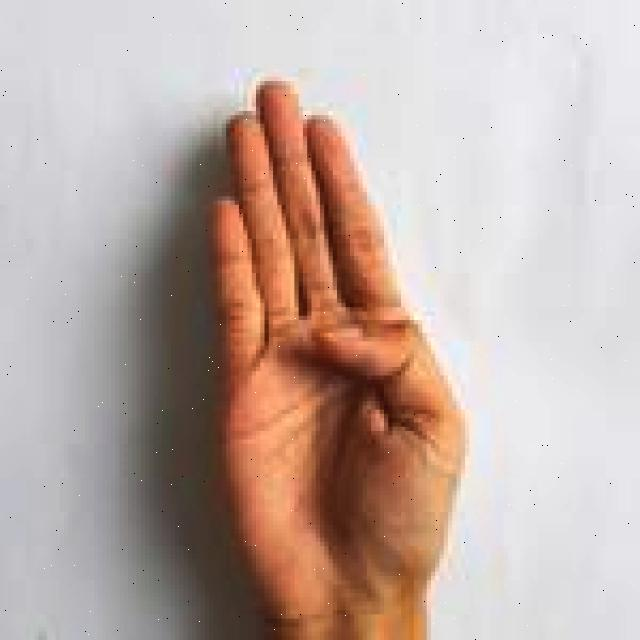B: (200, 77, 468, 640)
